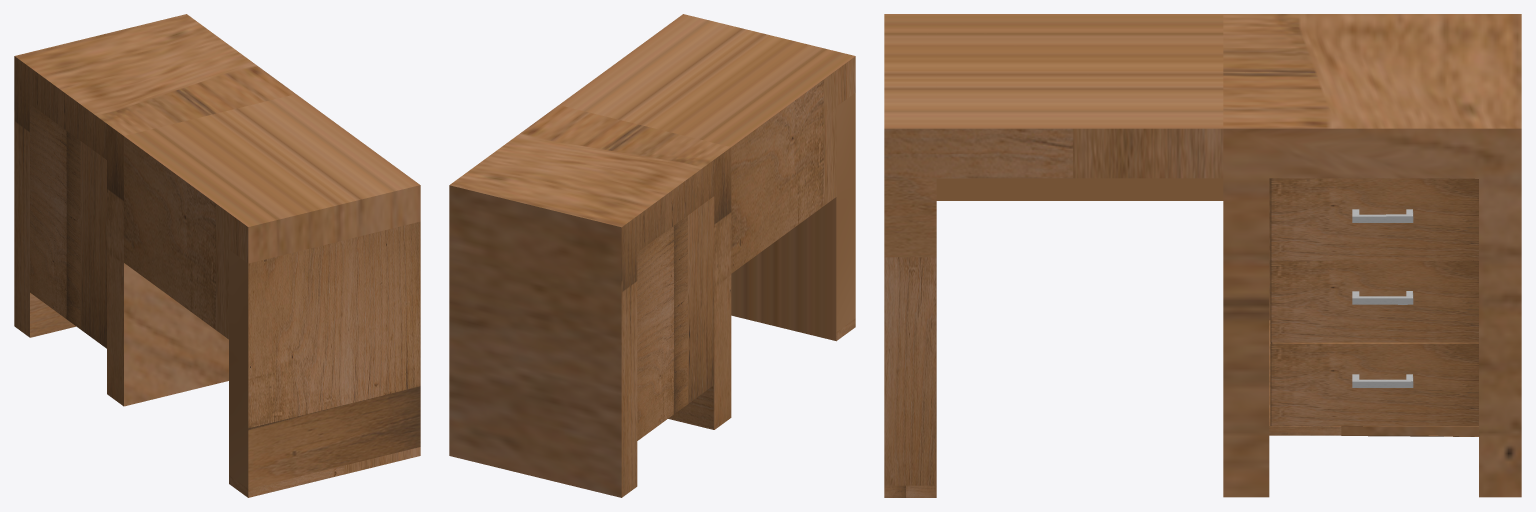
Rendered from desk.fbx.
The picture shows the model from 3 angles, left to right: view 1: azimuth 30°, elevation 25°; view 2: azimuth 150°, elevation 25°; view 3: azimuth 270°, elevation 25°; orthographic projection. The views are drawn at different scales.
Visible parts, largest first — view 1: desk; view 2: desk; view 3: desk, draw1, draw3, draw2.
Part boxes in pixels (x1,y1,x2,y2): desk: (14, 14, 420, 497); desk: (449, 14, 855, 497); desk: (884, 14, 1521, 497); draw1: (1270, 342, 1478, 425); draw3: (1270, 178, 1478, 260); draw2: (1270, 260, 1478, 342).
Size of the model in its own units: 424 by 601 by 940.
Materials: 2 (2 with a texture image).
